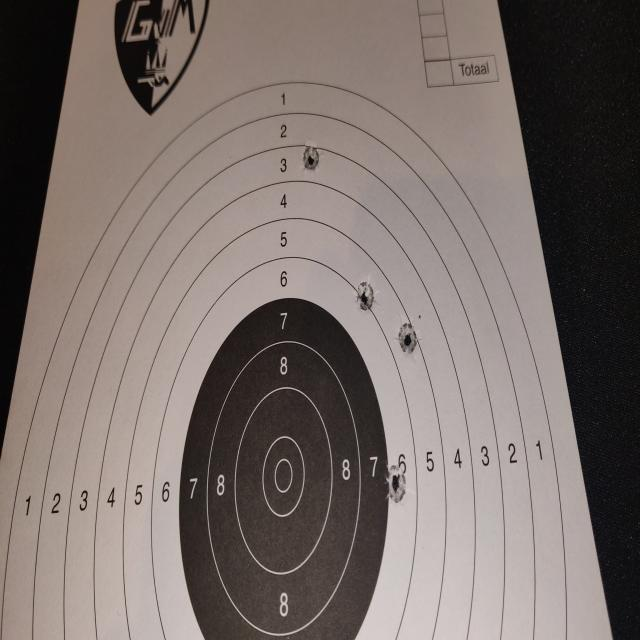3: (301, 139, 323, 175)
5: (395, 312, 422, 360)
6: (353, 274, 380, 312)
7: (383, 457, 407, 508)
Target: (0, 77, 568, 640)
black_contour: (179, 295, 388, 640)
